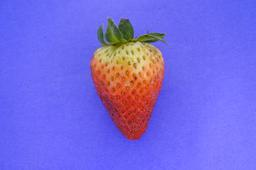red strawberry: (89, 26, 166, 142)
